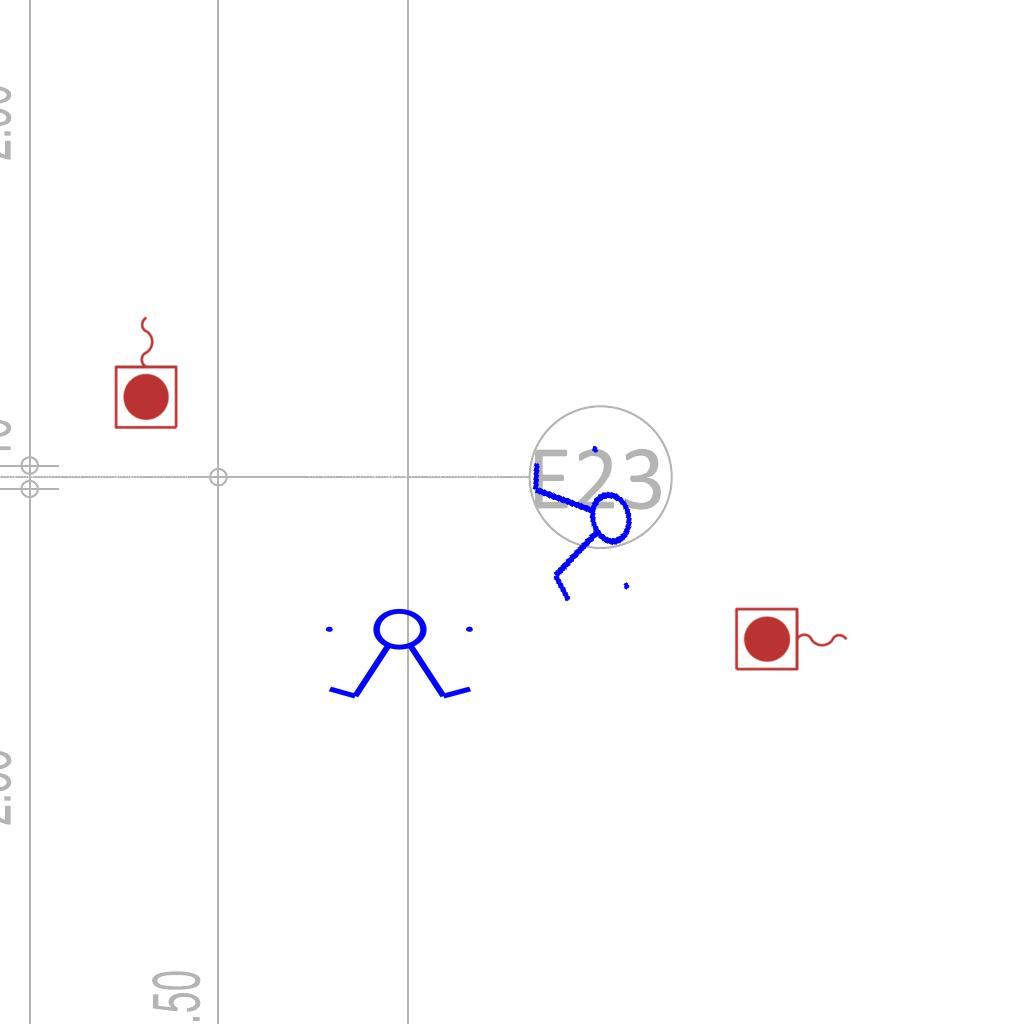Serienschalter: (520, 432, 652, 618), (317, 607, 485, 703)
Zugtaster: (731, 604, 853, 676), (111, 311, 183, 433)
